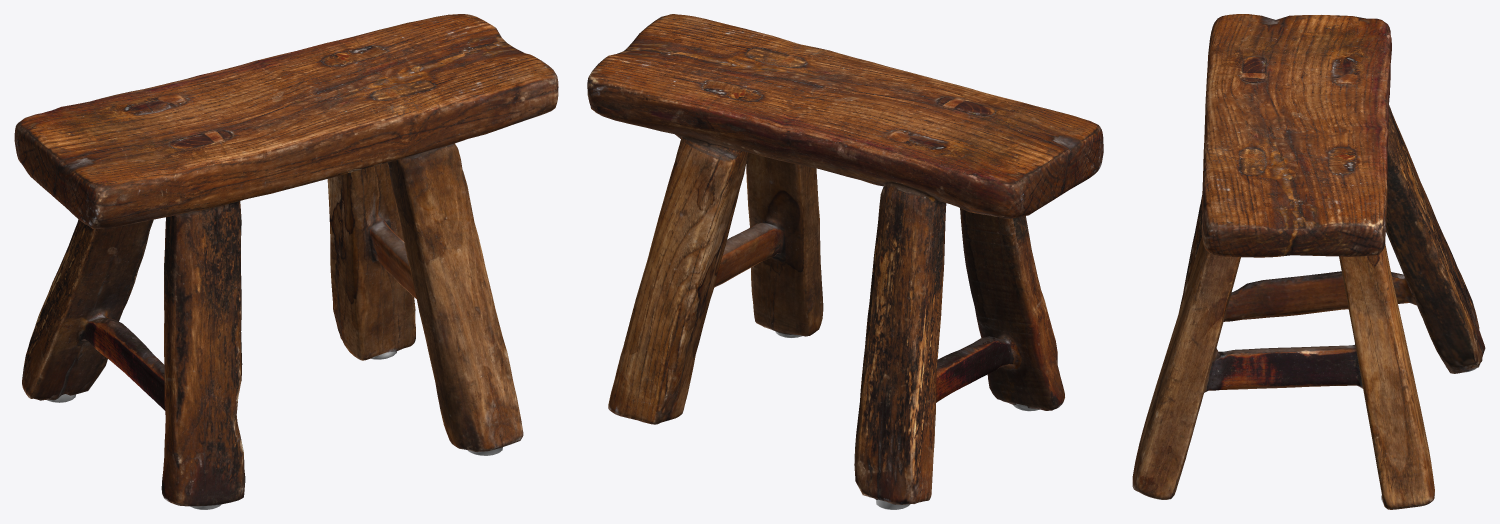
File: WoodenStool.obj
3 renders of one model, left to right at view 1: azimuth 30°, elevation 25°; view 2: azimuth 150°, elevation 25°; view 3: azimuth 270°, elevation 25°, orthographic. The views are drawn at different scales.
Parts seen in each view (by area): view 1: wooden_stool_02; view 2: wooden_stool_02; view 3: wooden_stool_02.
Part boxes in pixels (x1,y1,x2,y2): wooden_stool_02: (14, 14, 558, 509); wooden_stool_02: (587, 14, 1103, 509); wooden_stool_02: (1132, 14, 1485, 509).
Bounding box in the file's own units: 0.2652 × 0.1819 × 0.1831.
